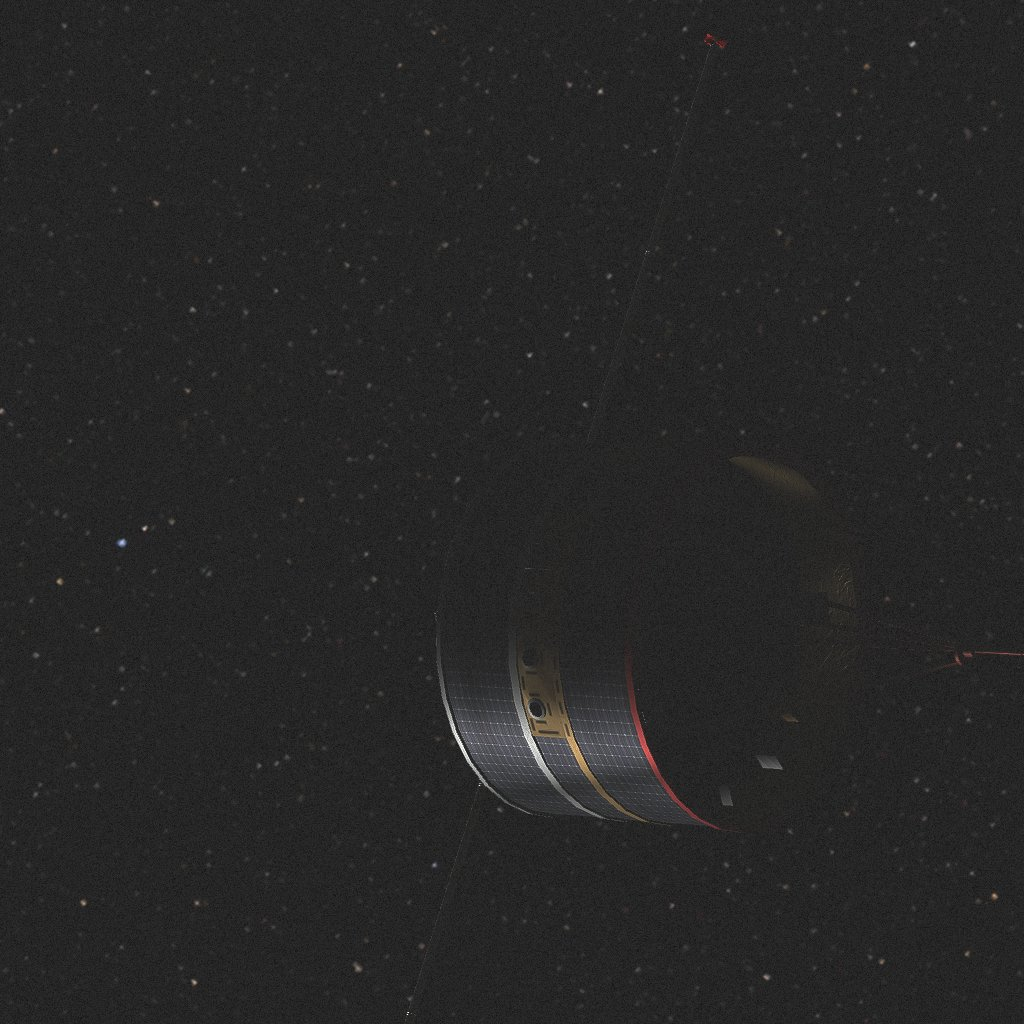double_star: (405, 29, 1024, 1024)
